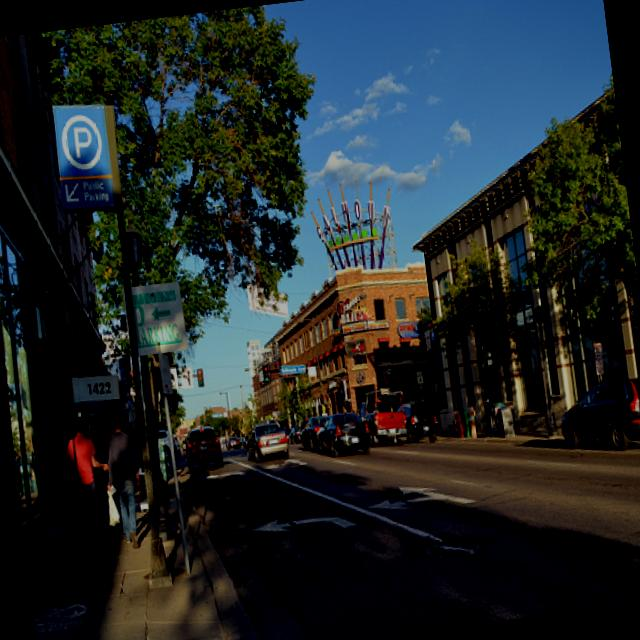Vehicle: (555, 374, 640, 460), (358, 384, 410, 448), (316, 410, 372, 459), (395, 398, 441, 446), (183, 424, 225, 476), (242, 422, 290, 466), (297, 412, 328, 452), (157, 427, 176, 458), (228, 436, 242, 449), (174, 436, 180, 456)
